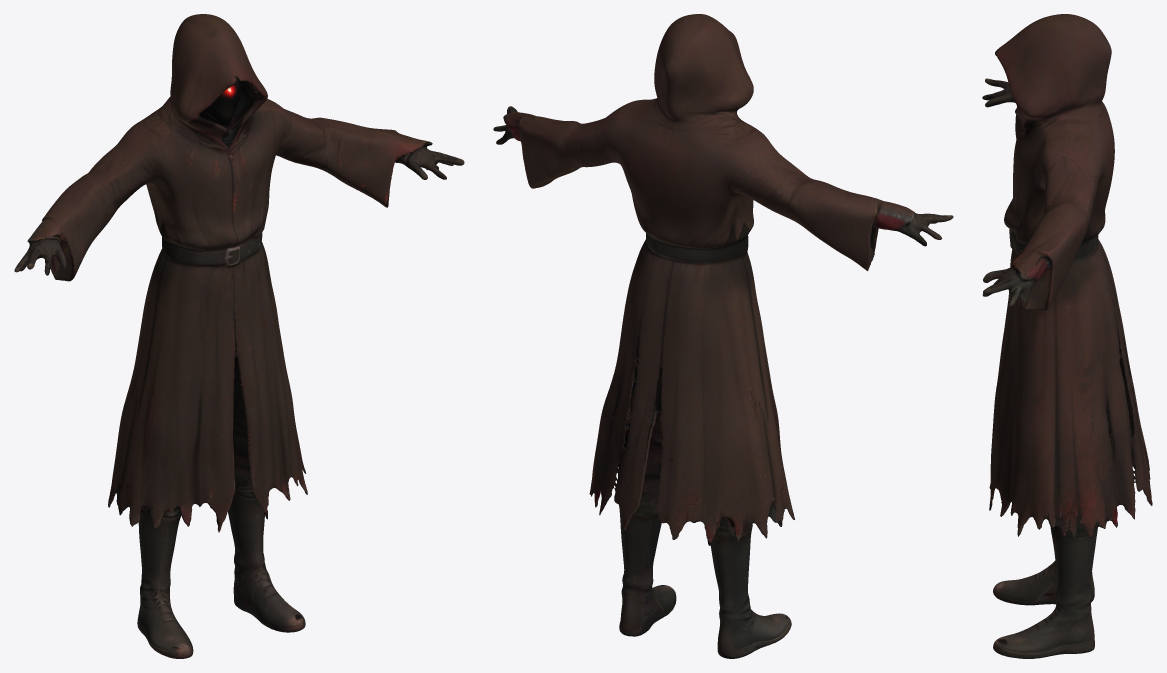
Rendered from shadow_mage.glb.
The picture shows the model from 3 angles, left to right: view 1: azimuth 30°, elevation 25°; view 2: azimuth 150°, elevation 25°; view 3: azimuth 270°, elevation 25°; orthographic projection. The views are drawn at different scales.
Visible parts, largest first — view 1: Object_4, Object_6, Object_5; view 2: Object_5, Object_6, Object_4; view 3: Object_4, Object_5, Object_6.
Part boxes in pixels (<box>): Object_4: <box>14,14,464,658</box>; Object_6: <box>28,14,414,651</box>; Object_5: <box>57,14,325,637</box>; Object_5: <box>534,19,846,658</box>; Object_6: <box>496,14,926,647</box>; Object_4: <box>493,14,953,636</box>; Object_4: <box>982,17,1111,658</box>; Object_5: <box>1032,14,1139,656</box>; Object_6: <box>1019,14,1152,657</box>.
Bounding box in the file's own units: 1.51 × 1.99 × 0.5048.
Materials: 1 (1 with a texture image).
